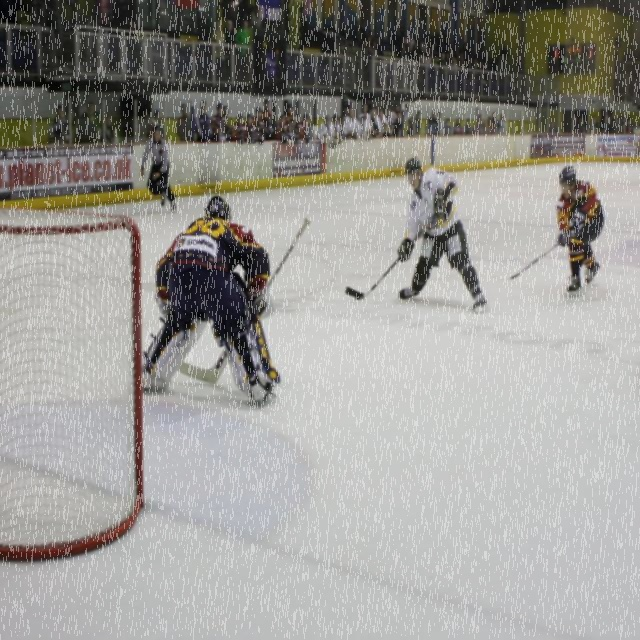pessoa: (138, 194, 282, 409), (396, 154, 492, 316), (330, 18, 492, 96), (1, 10, 149, 80), (556, 164, 606, 298), (210, 96, 312, 146), (140, 123, 178, 214), (66, 100, 122, 148), (568, 111, 640, 138), (368, 102, 409, 140), (234, 19, 251, 82), (210, 18, 227, 76), (222, 19, 237, 82), (49, 103, 70, 146), (334, 114, 348, 174), (195, 100, 212, 142), (494, 42, 511, 84), (176, 102, 193, 142), (462, 116, 474, 164), (318, 113, 336, 144), (472, 118, 484, 164), (342, 106, 359, 138), (358, 102, 372, 136), (484, 116, 494, 162), (425, 109, 442, 136), (328, 112, 342, 144), (548, 118, 558, 156), (406, 110, 420, 136), (148, 109, 160, 138), (356, 115, 368, 141), (248, 6, 262, 28), (452, 117, 464, 136), (490, 110, 500, 132), (442, 117, 452, 135), (498, 113, 506, 134), (476, 115, 484, 135)
